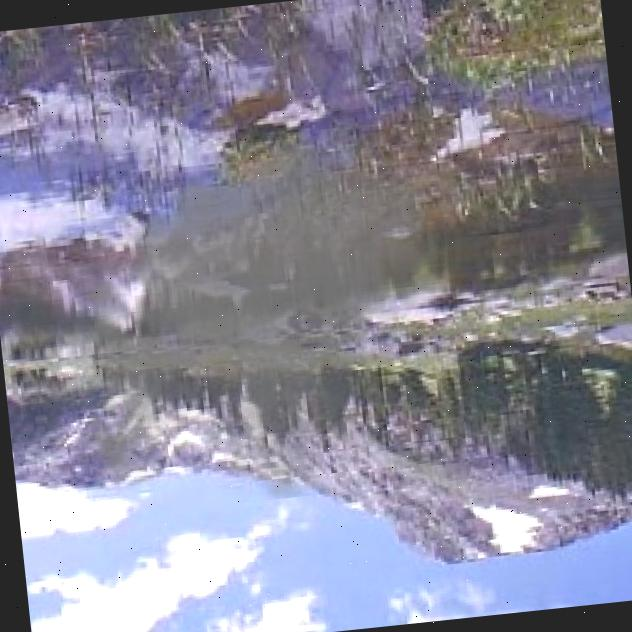smoke: (43, 96, 461, 519)
